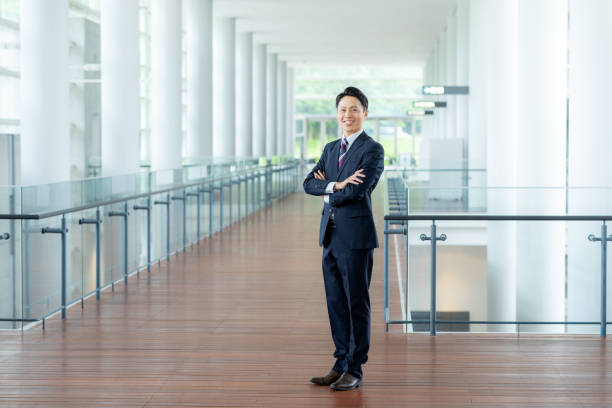Male: (288, 86, 398, 395)
